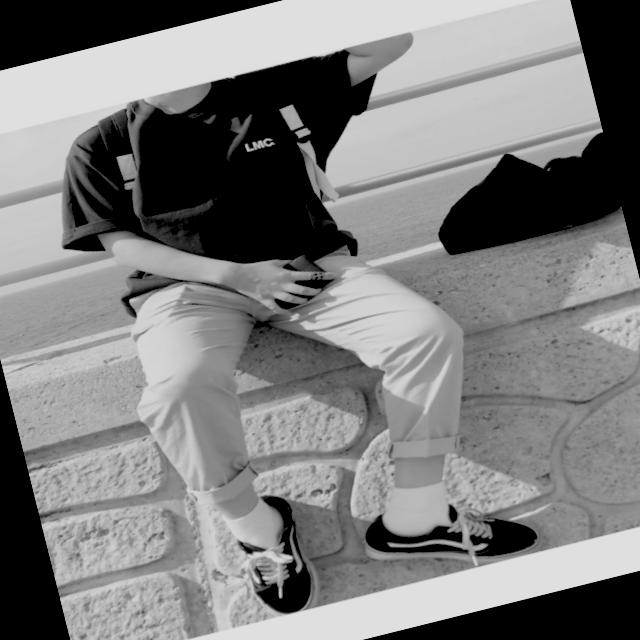cottonpants: (108, 211, 493, 518)
shortsleeve: (35, 42, 421, 322)
